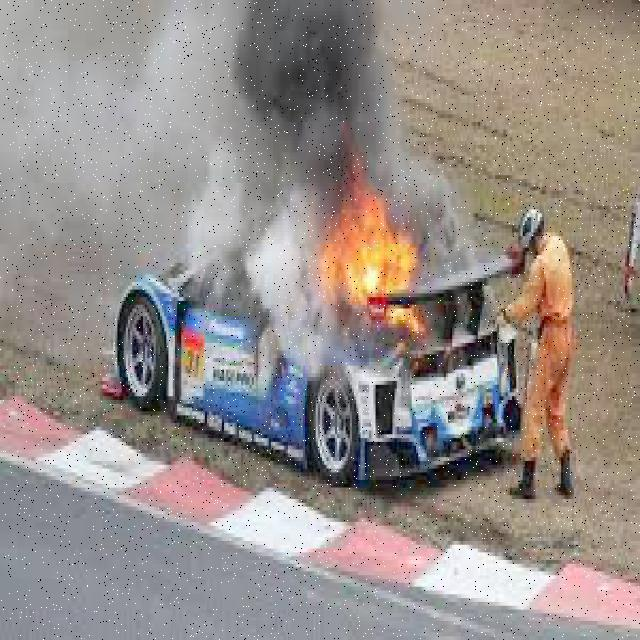fire: (338, 204, 416, 309)
smoke: (236, 4, 418, 195)
